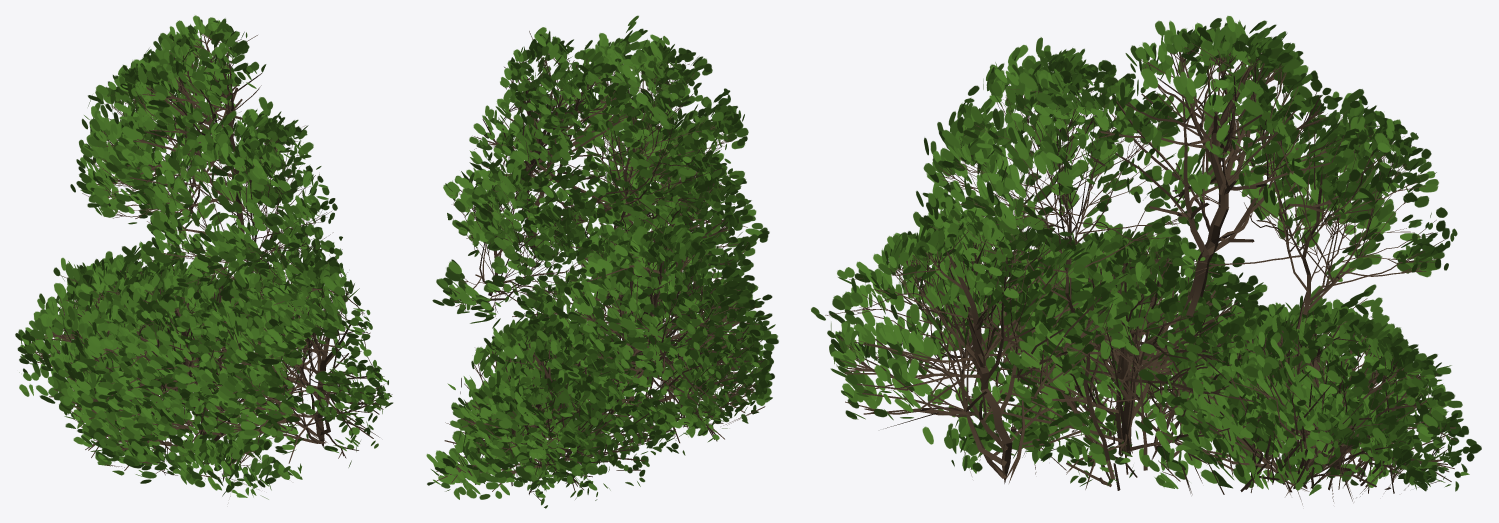
The picture shows the model from 3 angles, left to right: view 1: azimuth 30°, elevation 25°; view 2: azimuth 150°, elevation 25°; view 3: azimuth 270°, elevation 25°; orthographic projection. The views are drawn at different scales.
Visible parts, largest first — view 1: oak 01.001_trunk_Mat.001_0.502; view 2: oak 01.001_trunk_Mat.001_0.502; view 3: oak 01.001_trunk_Mat.001_0.502.
Boxes of the visible parts, x1,y1,x2,y2 form: oak 01.001_trunk_Mat.001_0.502: [15, 15, 393, 499]; oak 01.001_trunk_Mat.001_0.502: [426, 15, 778, 508]; oak 01.001_trunk_Mat.001_0.502: [811, 16, 1481, 504].
Size of the model in its own units: 2.31 by 3.98 by 4.98.
2 materials, 1 textured.
